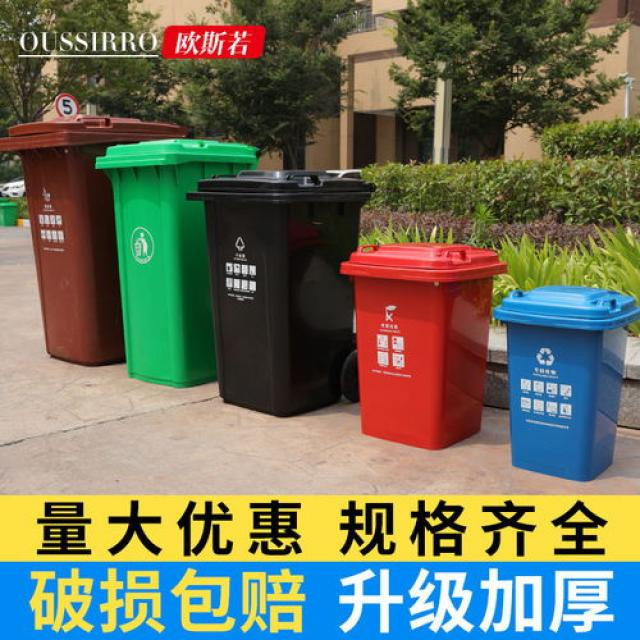garbage_bin: (187, 168, 375, 416), (2, 117, 184, 366), (96, 139, 257, 388), (338, 241, 506, 448), (492, 286, 638, 482)
